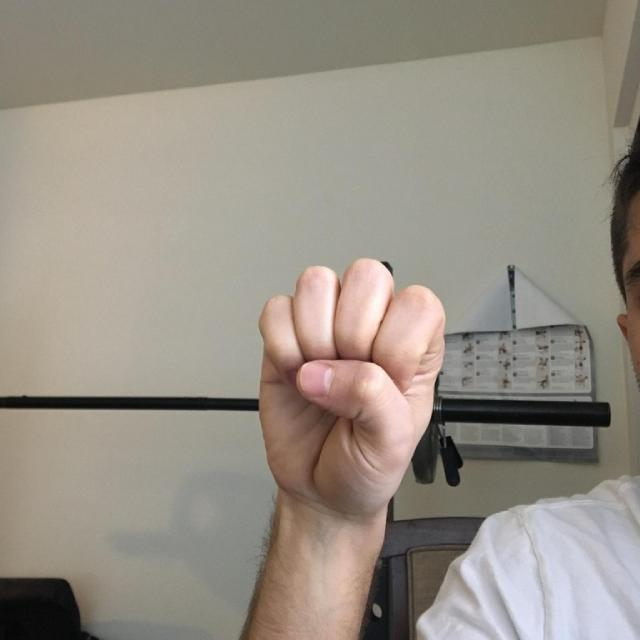E: (205, 215, 530, 566)
